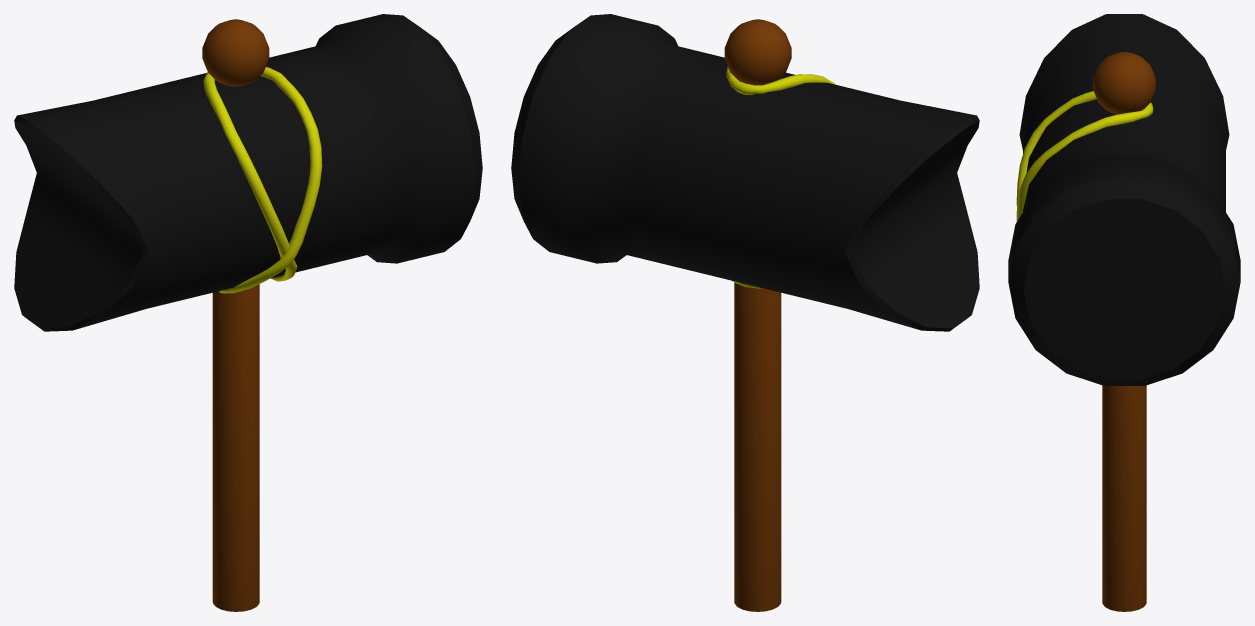
Rendered from Hammer Bros Hammer.fbx.
3 renders of one model, left to right at view 1: azimuth 30°, elevation 25°; view 2: azimuth 150°, elevation 25°; view 3: azimuth 270°, elevation 25°, orthographic. The views are drawn at different scales.
Parts seen in each view (by area): view 1: Cylinder001, Object002, Sphere001; view 2: Cylinder001, Sphere001, Object002; view 3: Cylinder001, Sphere001, Object002.
Boxes of the visible parts, x1,y1,x2,y2 form: Cylinder001: (14, 14, 482, 611); Object002: (203, 67, 322, 293); Sphere001: (202, 19, 269, 86); Cylinder001: (511, 14, 979, 611); Sphere001: (724, 19, 791, 85); Object002: (726, 66, 835, 288); Cylinder001: (1008, 14, 1240, 611); Sphere001: (1093, 52, 1155, 114); Object002: (1016, 91, 1153, 221).
Size of the model in its own units: 163 by 227 by 87.07.
